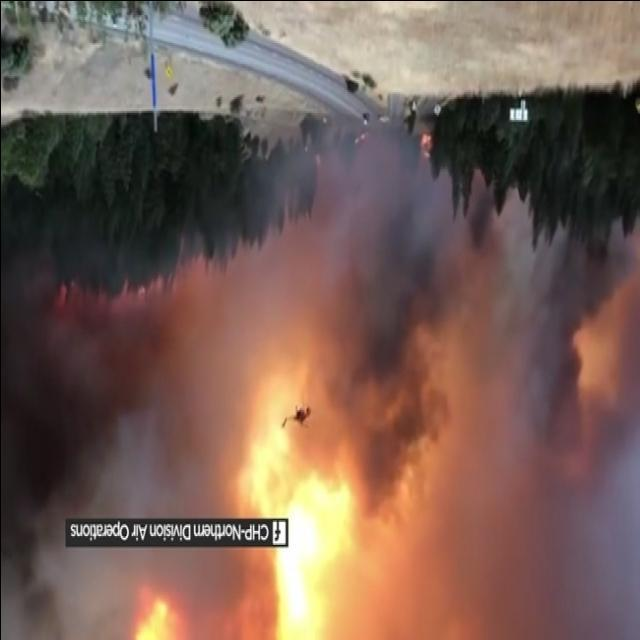Fire: (110, 388, 353, 636)
